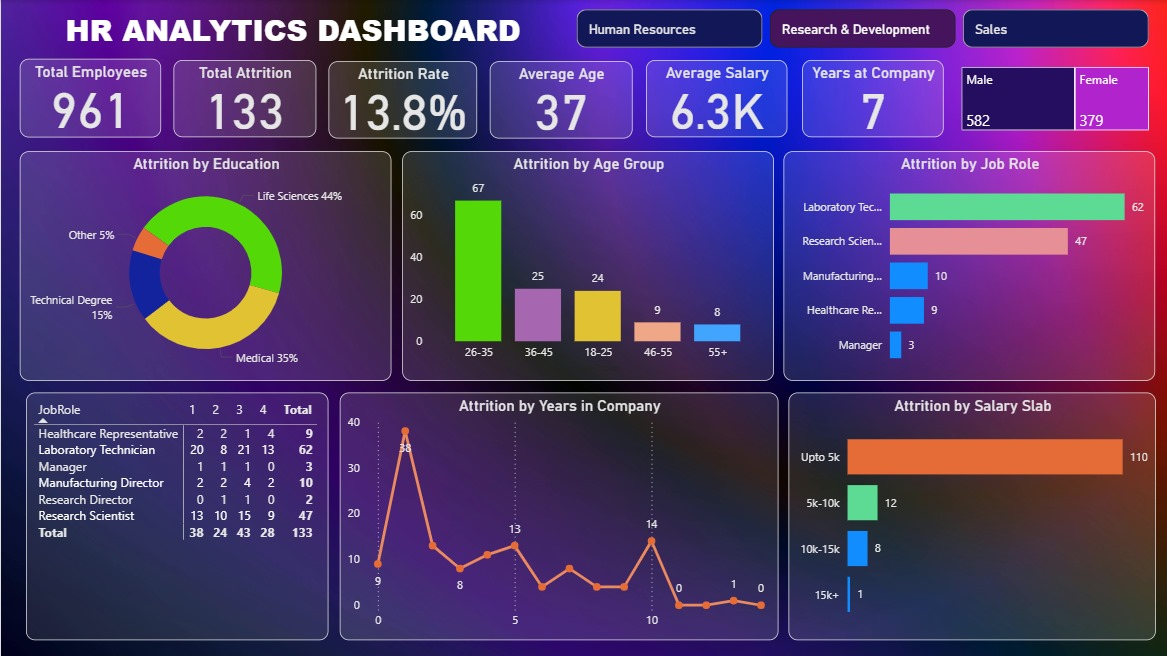

What the dashboard file says about the page in this screenshot:
{"tool":"powerbi","page":{"name":"Dashboard","canvas":[1280,720],"ordinal":0},"visuals":[{"type":"card","title":"Total Employees","fields":{"Values":["CountNonNull(HR_Analytics.EmpID)"]},"box":[20.6,64.5,155.1,86.4],"z":0},{"type":"card","title":"Total Attrition","fields":{"Values":["Sum(HR_Analytics.Atrition Count)"]},"box":[189.4,65.9,156.4,85.1],"z":1000},{"type":"card","title":"Attrition Rate","fields":{"Values":["HR_Analytics.Attrition Rate"]},"box":[359.5,67.2,163.3,85.1],"z":2000},{"type":"card","title":"Average Age","fields":{"Values":["HR_Analytics.Average Age"]},"box":[536.5,67.2,156.4,85.1],"z":3000},{"type":"card","title":"Years at Company","fields":{"Values":["Avg(HR_Analytics.YearsAtCompany)"]},"box":[879.6,65.9,155.1,85.1],"z":4000},{"type":"card","title":"Average Salary","fields":{"Values":["Avg(HR_Analytics.MonthlyIncome)"]},"box":[708.1,65.9,155.1,85.1],"z":5000},{"type":"donutChart","title":"Attrition by Education","fields":{"Category":["HR_Analytics.EducationField"],"Y":["Sum(HR_Analytics.Atrition Count)"]},"box":[20.2,165.5,408.3,252.4],"z":6000},{"type":"columnChart","title":"Attrition by Age Group","fields":{"Category":["HR_Analytics.AgeGroup"],"Y":["Sum(HR_Analytics.Atrition Count)"]},"box":[440.5,165.5,408.3,252.4],"z":7000},{"type":"pivotTable","fields":{"Rows":["HR_Analytics.JobRole"],"Columns":["HR_Analytics.JobSatisfaction"],"Values":["Sum(HR_Analytics.Atrition Count)"]},"box":[27.4,430.9,332.1,271.7],"z":8000},{"type":"treemap","title":"Attrition by Gender","fields":{"Group":["HR_Analytics.Gender"],"Values":["CountNonNull(HR_Analytics.Gender)"]},"box":[1049.7,72.7,215.4,75.5],"z":9000},{"type":"clusteredBarChart","title":"Attrition by Job Role","fields":{"Category":["HR_Analytics.JobRole"],"Y":["Sum(HR_Analytics.Atrition Count)"]},"box":[859.5,165.5,408.3,252.4],"z":10000},{"type":"lineChart","title":"Attrition by Years in Company","fields":{"Y":["Sum(HR_Analytics.Atrition Count)"],"Category":["HR_Analytics.YearsAtCompany"]},"box":[371.9,430.9,481.6,271.7],"z":11000},{"type":"clusteredBarChart","title":"Attrition by Salary Slab","fields":{"Y":["Sum(HR_Analytics.Atrition Count)"],"Category":["HR_Analytics.SalarySlab"]},"box":[864.5,430.9,403.4,271.7],"z":12000},{"type":"advancedSlicerVisual","fields":{"Values":["HR_Analytics.Department"]},"box":[627.1,5.5,640.8,52.1],"z":13000},{"type":"textbox","box":[65.9,5.5,516,57.6],"z":14000}]}

Visuals, with their boxes in screenshot pixels (x1, y1, x2, y2), scaled from the page's 1280x720 canvas onto the 1167x656 screenshot:
"Total Employees" card: <box>19,59,160,137</box>
"Total Attrition" card: <box>173,60,315,138</box>
"Attrition Rate" card: <box>328,61,477,139</box>
"Average Age" card: <box>489,61,632,139</box>
"Years at Company" card: <box>802,60,943,138</box>
"Average Salary" card: <box>646,60,787,138</box>
"Attrition by Education" donutChart: <box>18,151,391,381</box>
"Attrition by Age Group" columnChart: <box>402,151,774,381</box>
pivotTable - HR_Analytics.JobRole x HR_Analytics.JobSatisfaction: <box>25,393,328,640</box>
"Attrition by Gender" treemap: <box>957,66,1153,135</box>
"Attrition by Job Role" clusteredBarChart: <box>784,151,1156,381</box>
"Attrition by Years in Company" lineChart: <box>339,393,778,640</box>
"Attrition by Salary Slab" clusteredBarChart: <box>788,393,1156,640</box>
advancedSlicerVisual - HR_Analytics.Department: <box>572,5,1156,52</box>
textbox: <box>60,5,531,57</box>
